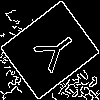Y: (25, 25, 80, 80)
